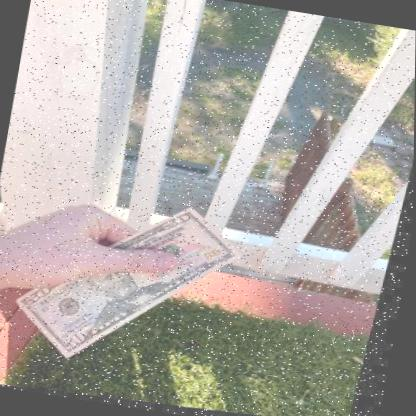fifty-front: (20, 209, 247, 360)
